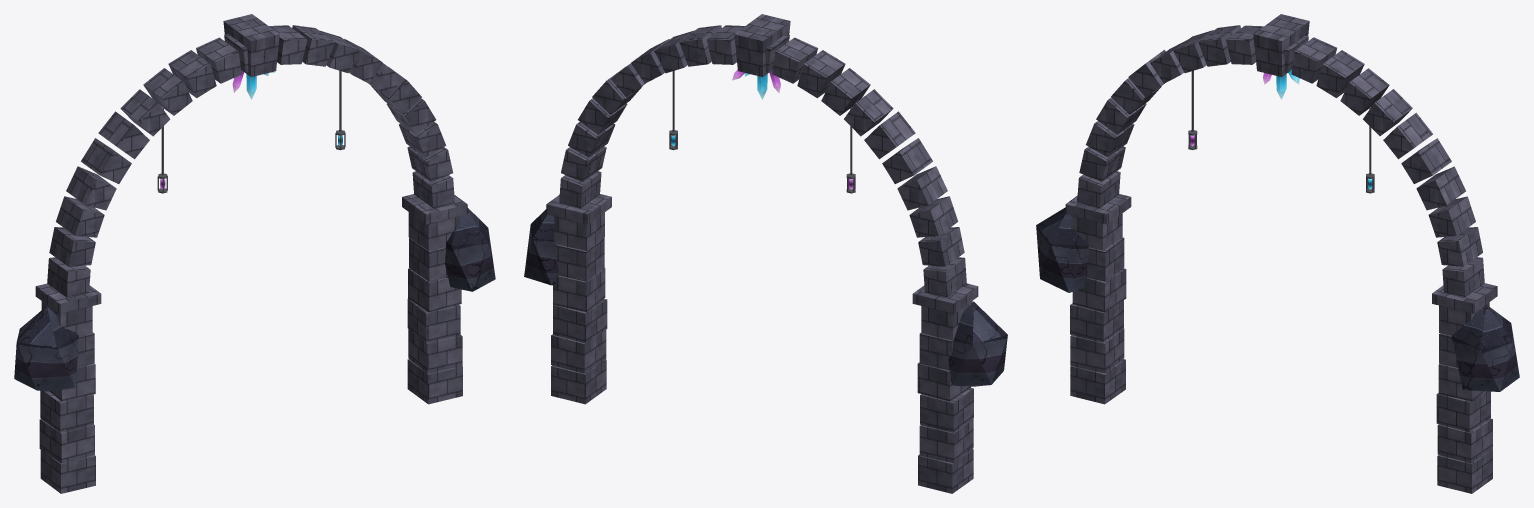
File: chasm_arch.glb
3 views of the same model, side by side, from view 1: azimuth 30°, elevation 25°; view 2: azimuth 150°, elevation 25°; view 3: azimuth 330°, elevation 25° (orthographic).
Parts seen in each view (by area): view 1: chasm_arch; view 2: chasm_arch; view 3: chasm_arch.
Boxes of the visible parts, x1,y1,x2,y2 form: chasm_arch: [14, 14, 495, 493]; chasm_arch: [524, 14, 1007, 493]; chasm_arch: [1036, 14, 1519, 493].
Bounding box in the file's own units: 17.09 × 14.11 × 2.13.
5 materials, 4 textured.
